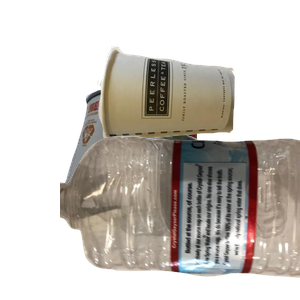glass: (86, 120, 277, 300)
metal: (60, 82, 300, 262)
plastic: (60, 134, 300, 300)
trash: (95, 44, 300, 180)
